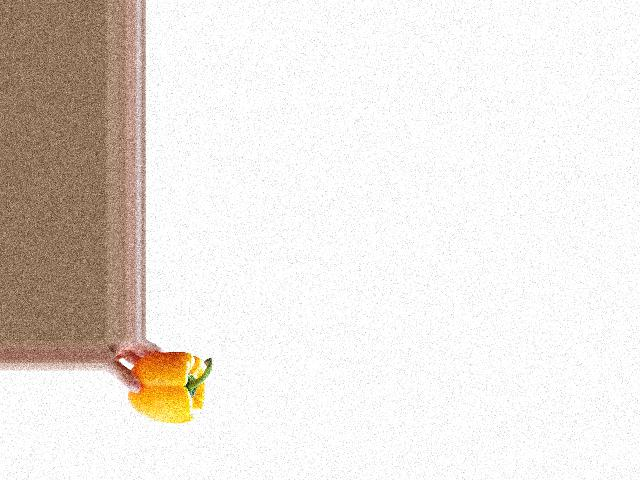bell_pepper: (126, 352, 216, 425)
